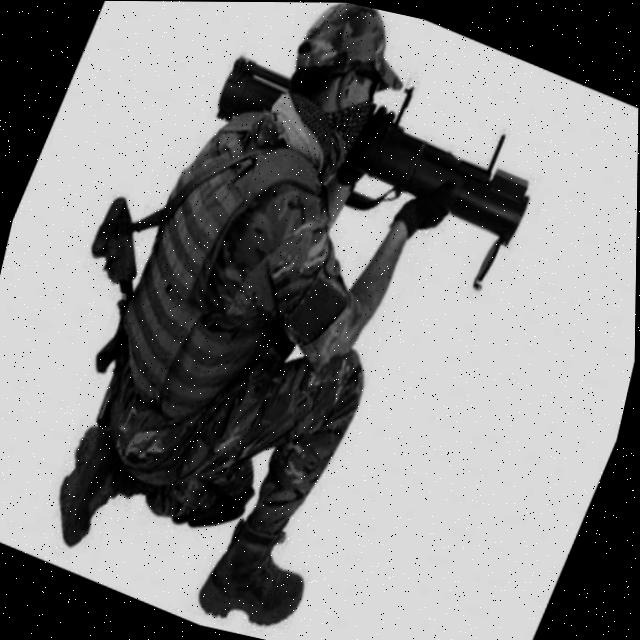rocket: (186, 40, 557, 265)
